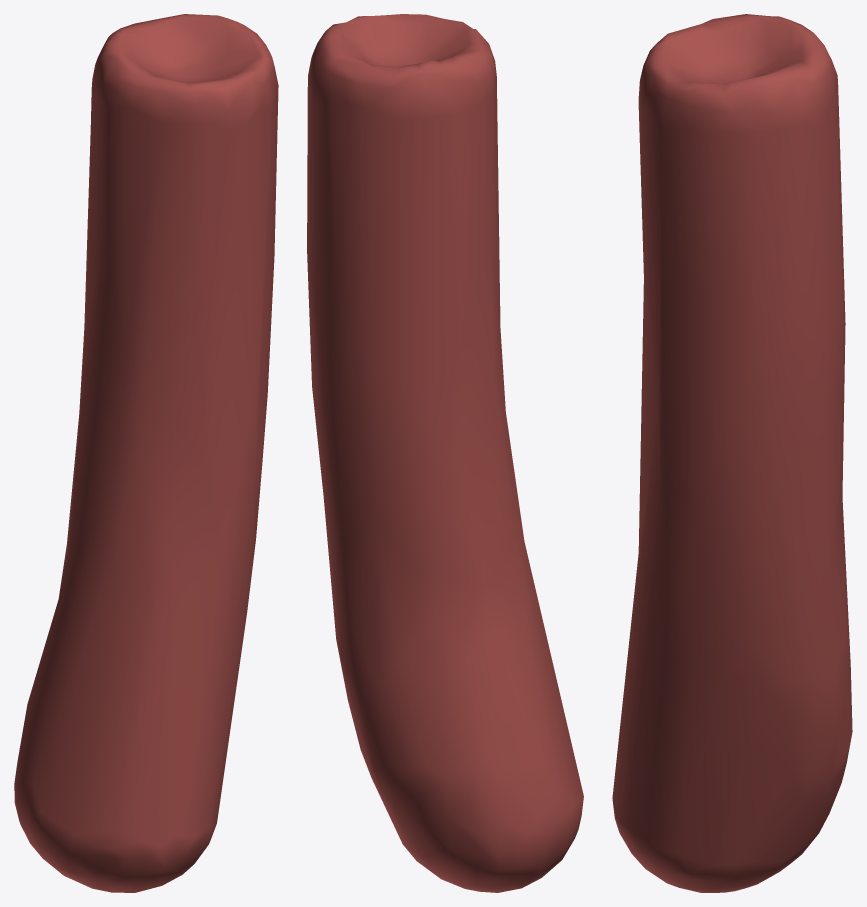
File: FMA4762.glb
The picture shows the model from 3 angles, left to right: view 1: azimuth 30°, elevation 25°; view 2: azimuth 150°, elevation 25°; view 3: azimuth 270°, elevation 25°; orthographic projection. The views are drawn at different scales.
Visible parts, largest first — view 1: FMA4762; view 2: FMA4762; view 3: FMA4762.
Boxes of the visible parts, bbox=[...] form: FMA4762: bbox=[14, 14, 278, 892]; FMA4762: bbox=[307, 14, 583, 892]; FMA4762: bbox=[612, 14, 852, 892].
Size of the model in its own units: 0.0132 by 0.0433 by 0.0107.
